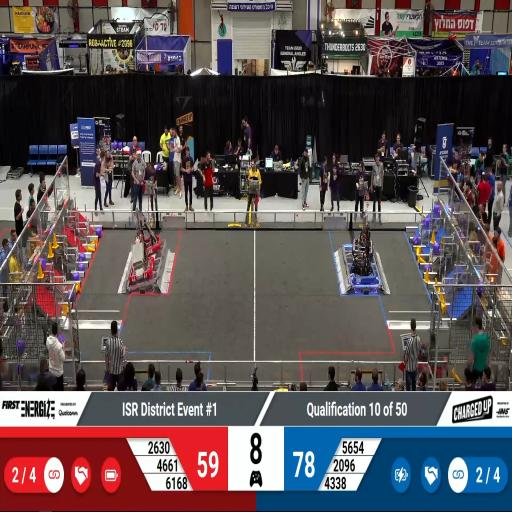robot: (418, 334, 446, 379), (127, 244, 155, 286), (132, 211, 160, 253), (348, 253, 377, 287), (352, 219, 374, 258)
